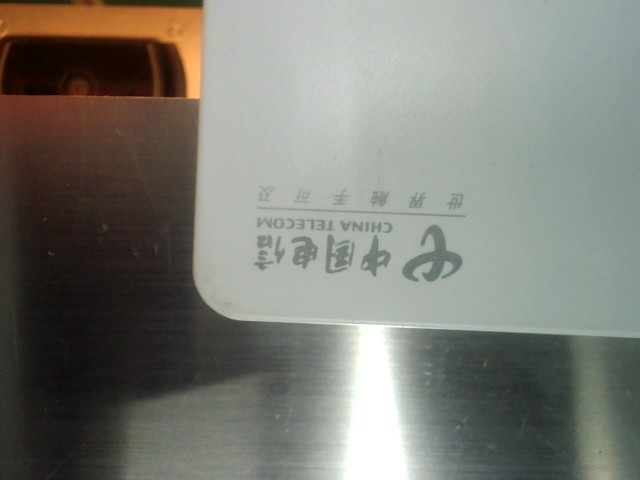AB_ChinaTelecom: (238, 168, 476, 288)
